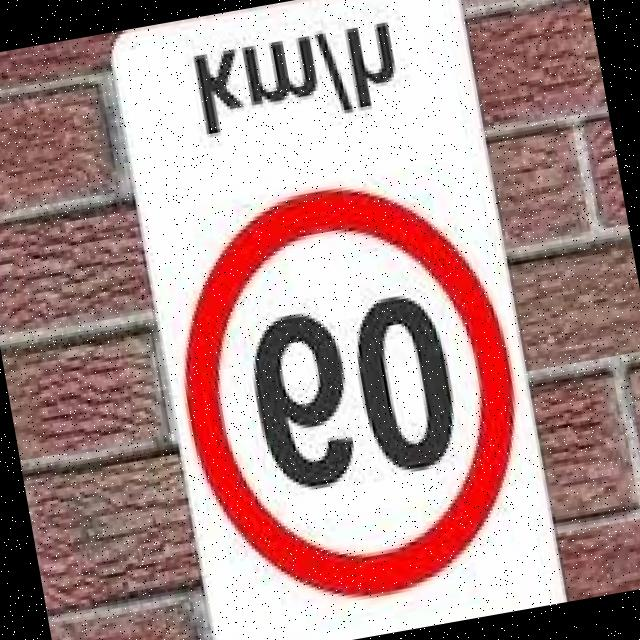speed_limit_60: (150, 161, 549, 628)
